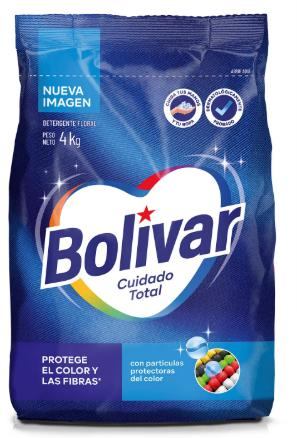brand: (40, 187, 252, 290)
extra_detail: (111, 265, 183, 303)
net_weight: (58, 128, 88, 150)
